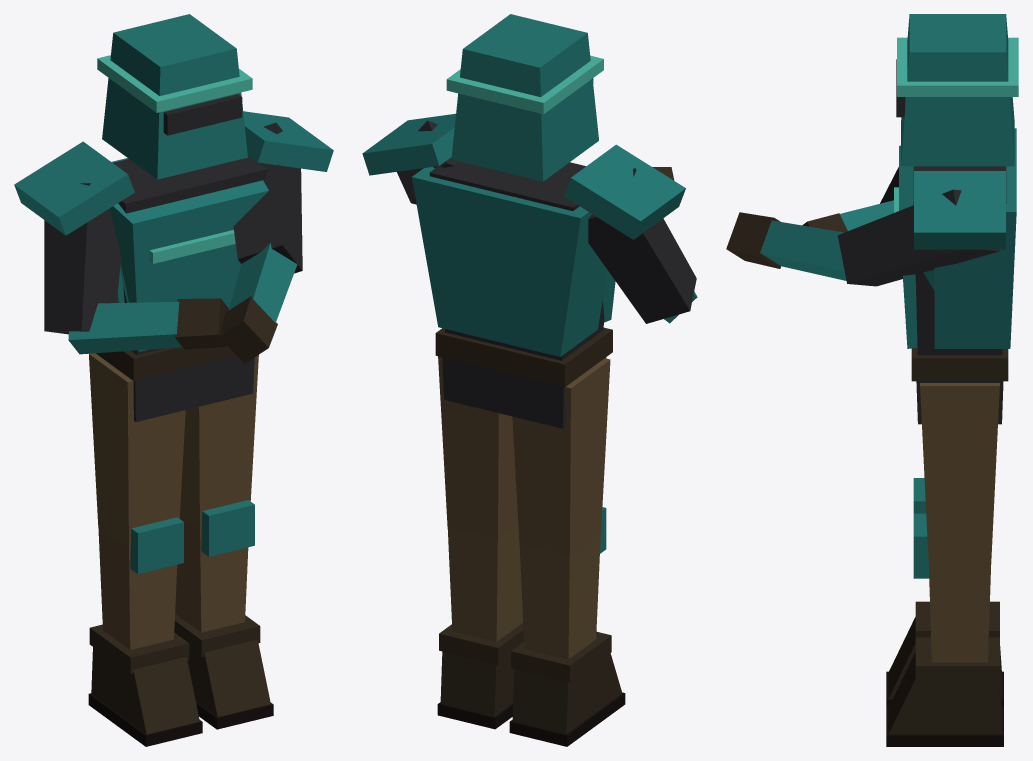
The model's file is gunner.glb.
3 views of the same model, side by side, from view 1: azimuth 30°, elevation 25°; view 2: azimuth 150°, elevation 25°; view 3: azimuth 270°, elevation 25° (orthographic). The views are drawn at different scales.
Parts seen in each view (by area): view 1: torso, head, leg_r_lower, leg_l_lower, leg_r, leg_l, arm_r, arm_r_lower, pauldron_r, arm_l_lower, arm_l, pauldron_l; view 2: torso, head, leg_r_lower, leg_l_lower, leg_r, leg_l, arm_r, pauldron_r, pauldron_l, arm_l; view 3: head, leg_l_lower, torso, leg_l, pauldron_l, arm_l, arm_l_lower, leg_r_lower, arm_r_lower.
Boxes of the visible parts, left/top/right/bottom form: torso: left=96, top=157, right=268, bottom=421; head: left=97, top=14, right=252, bottom=179; leg_r_lower: left=88, top=517, right=202, bottom=746; leg_l_lower: left=174, top=500, right=273, bottom=729; leg_r: left=89, top=353, right=185, bottom=548; leg_l: left=180, top=355, right=258, bottom=531; arm_r: left=44, top=183, right=121, bottom=334; arm_r_lower: left=68, top=298, right=228, bottom=354; pauldron_r: left=14, top=141, right=134, bottom=235; arm_l_lower: left=219, top=243, right=297, bottom=363; arm_l: left=233, top=122, right=302, bottom=273; pauldron_l: left=243, top=111, right=333, bottom=171; torso: left=411, top=161, right=615, bottom=428; head: left=446, top=14, right=603, bottom=181; leg_r_lower: left=509, top=507, right=625, bottom=746; leg_l_lower: left=437, top=525, right=523, bottom=729; leg_r: left=512, top=358, right=610, bottom=556; leg_l: left=438, top=356, right=518, bottom=539; arm_r: left=588, top=168, right=696, bottom=323; pauldron_r: left=564, top=144, right=685, bottom=239; pauldron_l: left=362, top=113, right=455, bottom=175; arm_l: left=397, top=120, right=456, bottom=204; head: left=896, top=14, right=1018, bottom=166; leg_l_lower: left=886, top=513, right=1003, bottom=746; torso: left=894, top=128, right=1016, bottom=424; leg_l: left=920, top=383, right=999, bottom=558; pauldron_l: left=914, top=171, right=1005, bottom=249; arm_l: left=837, top=189, right=999, bottom=286; arm_l_lower: left=726, top=212, right=846, bottom=280; leg_r_lower: left=886, top=478, right=1003, bottom=706; arm_r_lower: left=802, top=200, right=893, bottom=232.
Size of the model in its own units: 0.8005 by 1.79 by 0.6962.
